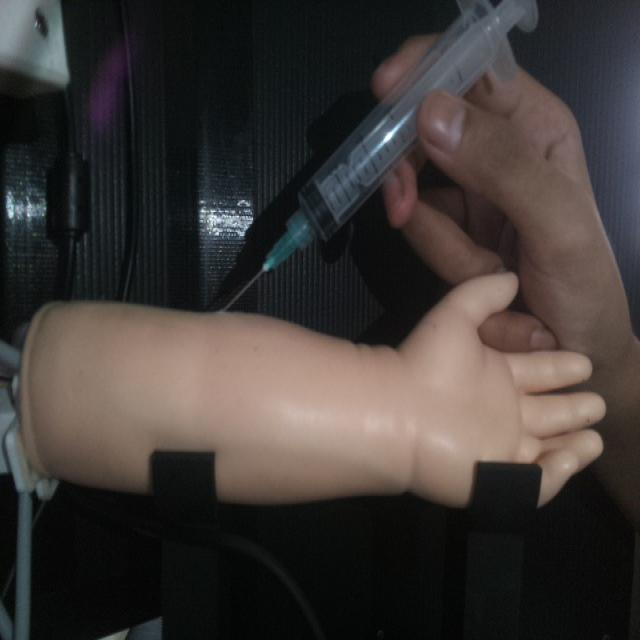Above 30 degrees: (218, 0, 542, 315)
